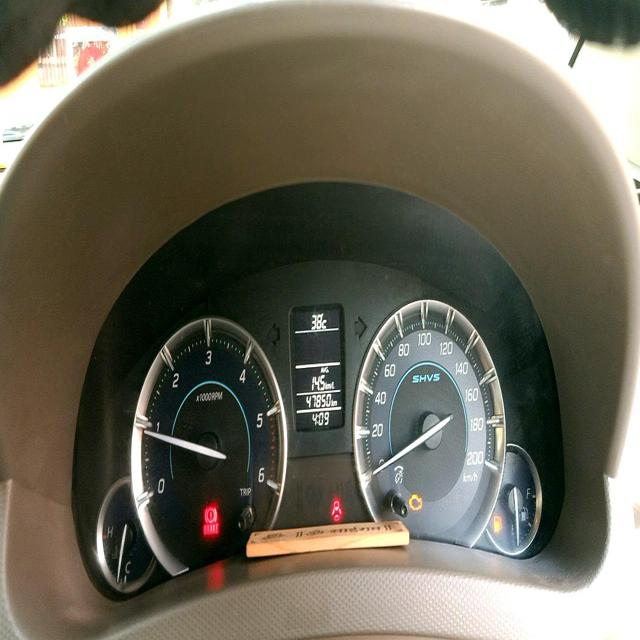odometer: (304, 391, 332, 409)
